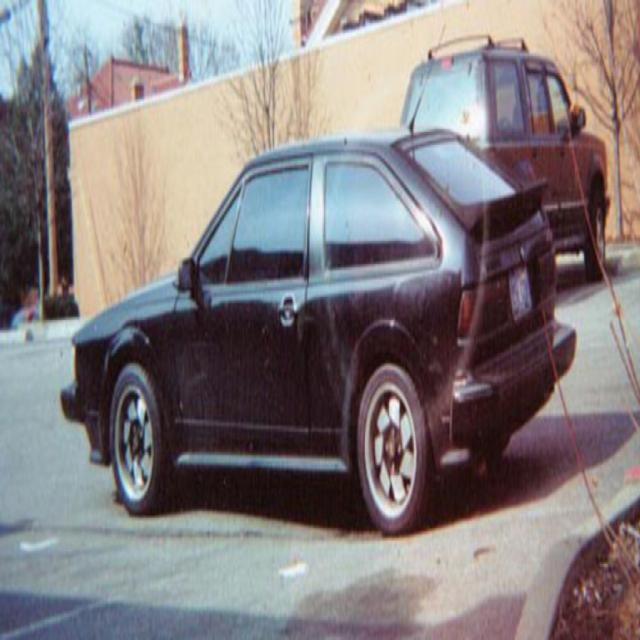Passenger Car: (62, 125, 574, 519)
